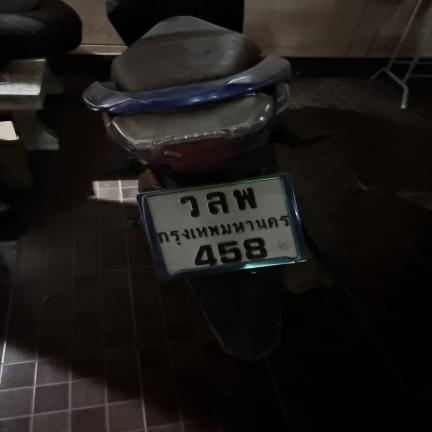4: (190, 243, 219, 268)
5: (215, 239, 244, 265)
8: (242, 236, 271, 261)
A30: (230, 186, 259, 212)
A36: (202, 190, 233, 217)
A37: (175, 194, 203, 218)
BKK: (155, 213, 291, 250)
